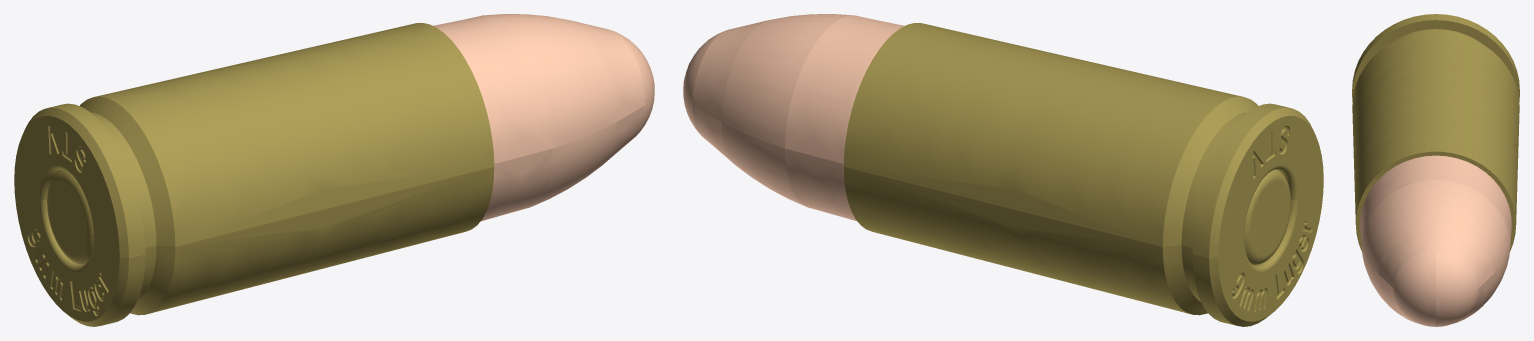
The model's file is 9mm_Luger_TFMJ_8g.gltf.
3 views of the same model, side by side, from view 1: azimuth 30°, elevation 25°; view 2: azimuth 150°, elevation 25°; view 3: azimuth 270°, elevation 25° (orthographic). The views are drawn at different scales.
Visible parts, largest first — view 1: part_3_brass, part_4_copper, part_0_brass; view 2: part_3_brass, part_4_copper, part_0_brass; view 3: part_3_brass, part_4_copper.
Part boxes in pixels (x1,y1,x2,y2): part_3_brass: (14,23,494,326); part_4_copper: (433,14,654,221); part_0_brass: (47,169,93,265); part_3_brass: (843,23,1323,326); part_4_copper: (683,14,904,221); part_0_brass: (1244,169,1290,265); part_3_brass: (1352,14,1519,252); part_4_copper: (1360,155,1511,326).
Bounding box in the file's own units: 29.69 × 9.96 × 9.96.
